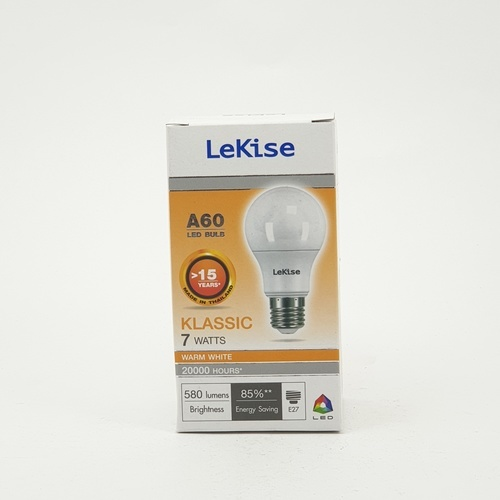Light_bulb: (237, 183, 329, 334)
